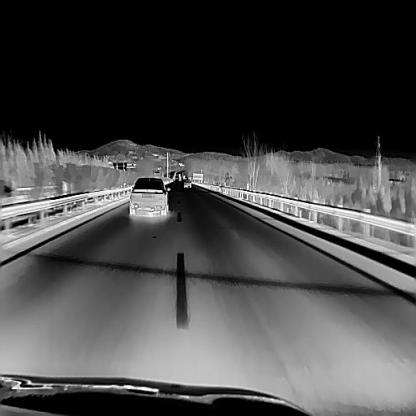car: (128, 176, 170, 216), (183, 176, 191, 187)
